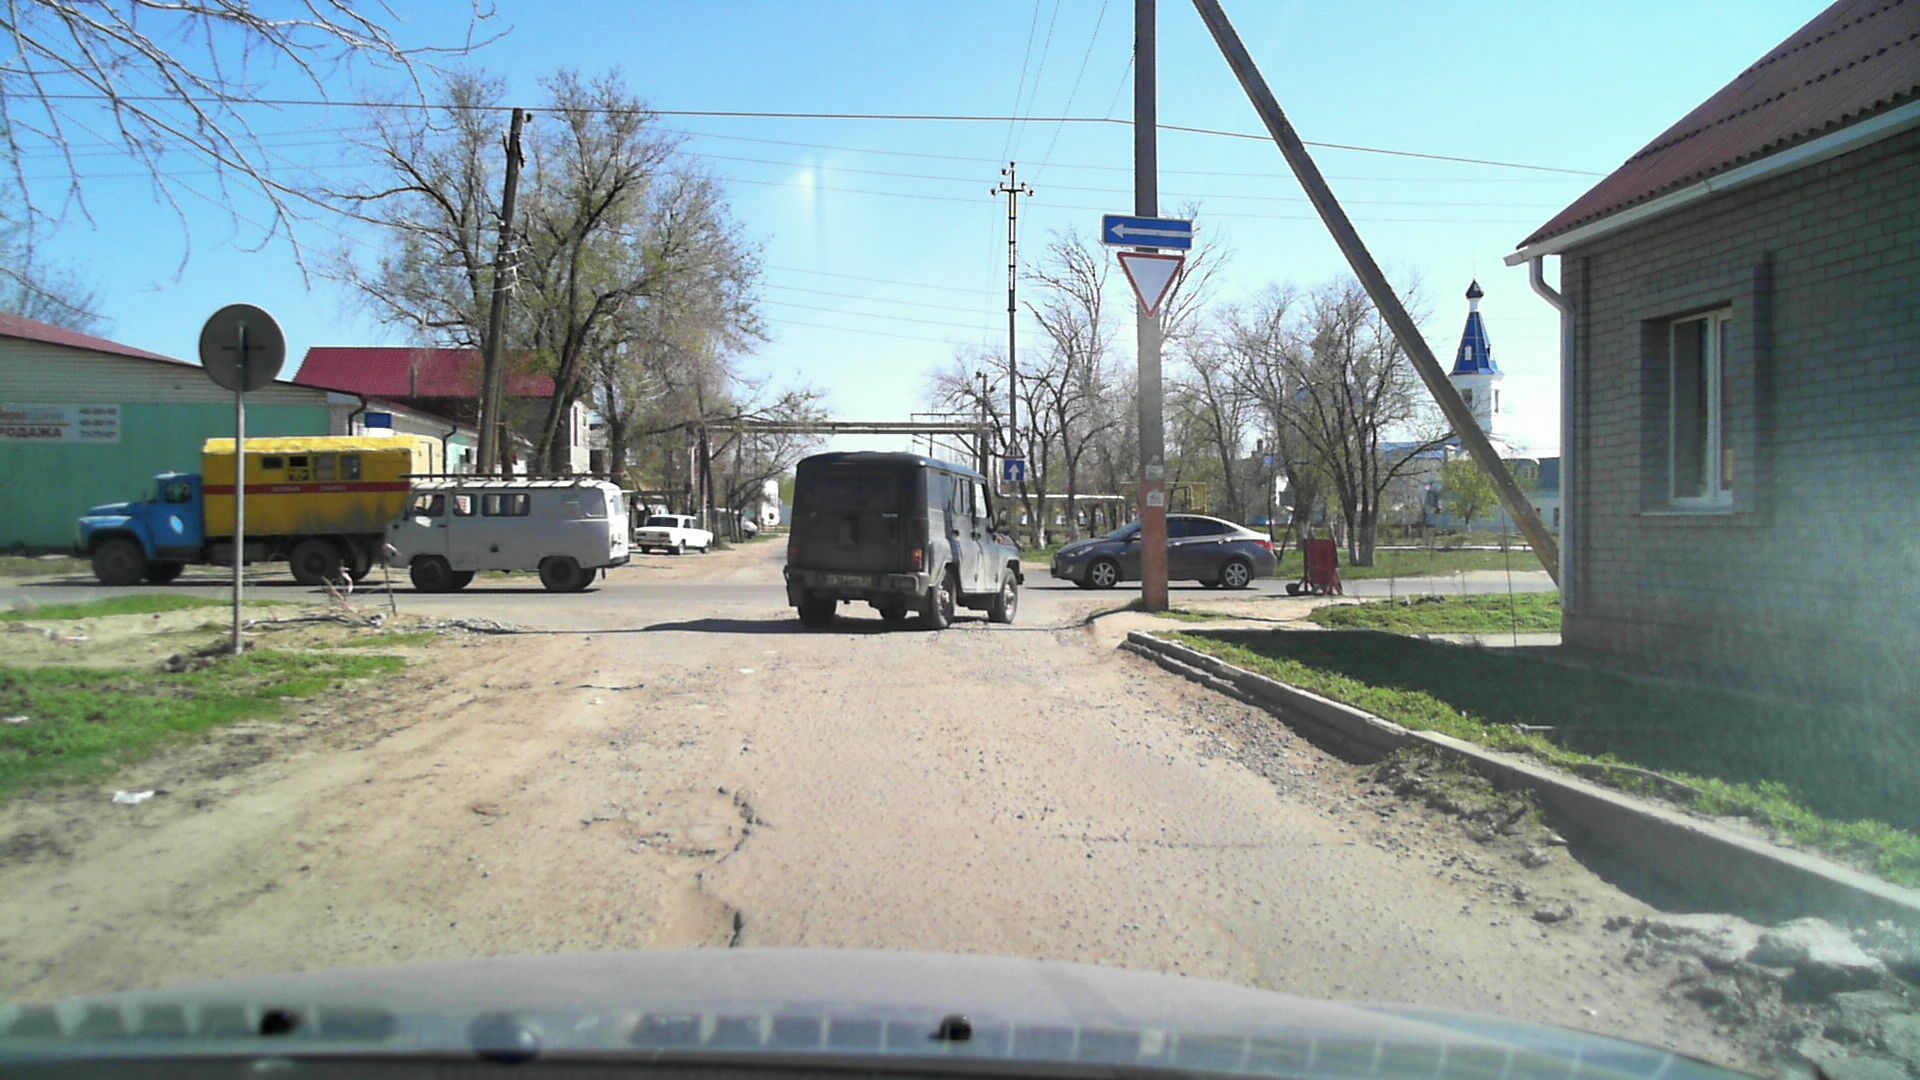One-Way Traffic: (1102, 214, 1192, 251)
